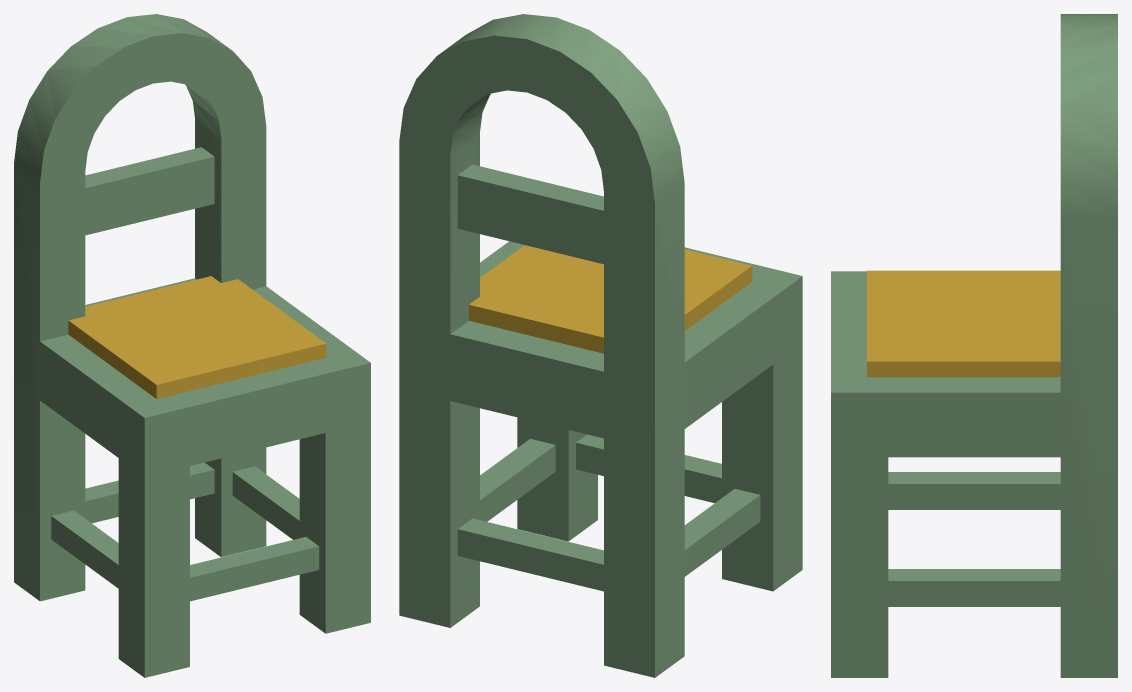
File: chairRounded.glb
3 renders of one model, left to right at view 1: azimuth 30°, elevation 25°; view 2: azimuth 150°, elevation 25°; view 3: azimuth 270°, elevation 25°, orthographic. The views are drawn at different scales.
Parts seen in each view (by area): view 1: chairRounded(Clone); view 2: chairRounded(Clone); view 3: chairRounded(Clone).
Part boxes in pixels (left/top/right/bottom): chairRounded(Clone): left=14, top=14, right=370, bottom=677; chairRounded(Clone): left=399, top=14, right=802, bottom=677; chairRounded(Clone): left=831, top=14, right=1117, bottom=677.
Size of the model in its own units: 0.2 by 0.455 by 0.2.
